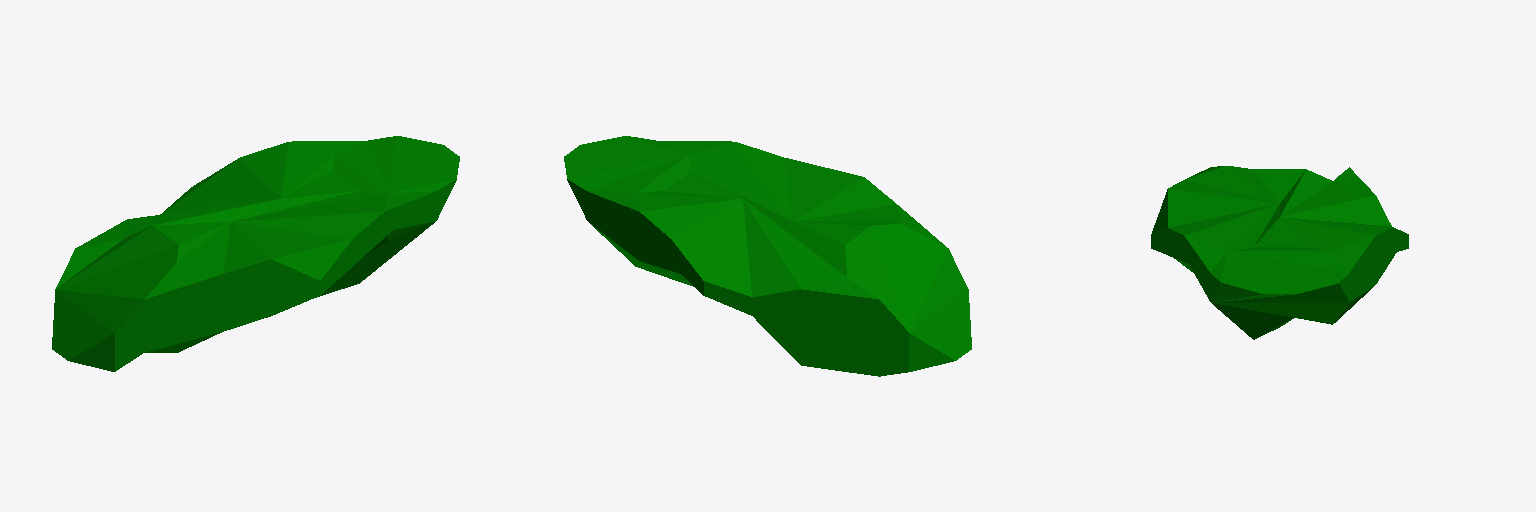
Rendered from Plataforma5.obj.
3 renders of one model, left to right at view 1: azimuth 30°, elevation 25°; view 2: azimuth 150°, elevation 25°; view 3: azimuth 270°, elevation 25°, orthographic.
Visible parts, largest first — view 1: Hedra001; view 2: Hedra001; view 3: Hedra001.
Boxes of the visible parts, box(x1,y1,x2,y2) form: Hedra001: box(52, 136, 459, 371); Hedra001: box(564, 136, 971, 376); Hedra001: box(1151, 166, 1408, 339).
Bounding box in the file's own units: 416 × 121 × 236.